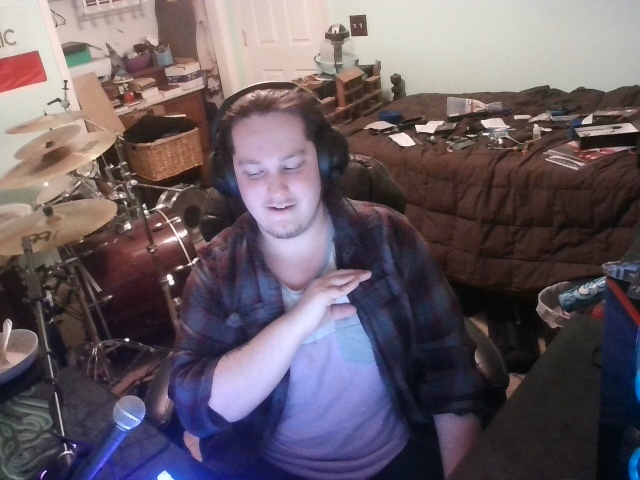police: (283, 259, 396, 341)
